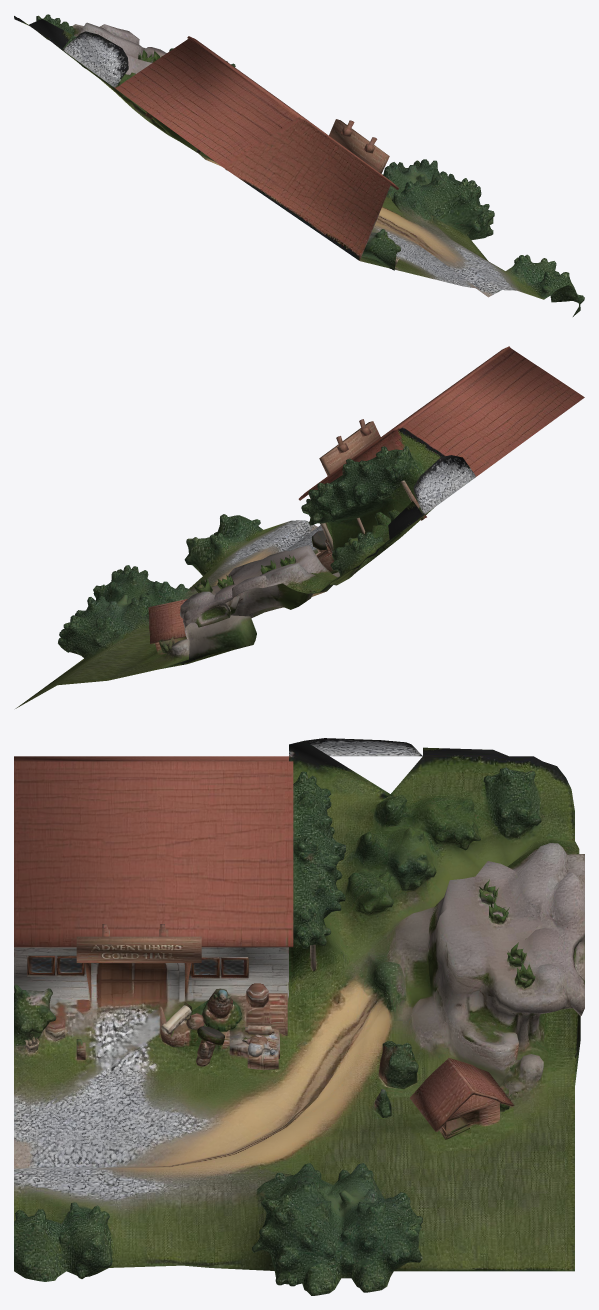
The model's file is guild-hall.glb.
3 views of the same model, one above another, from view 1: azimuth 30°, elevation 25°; view 2: azimuth 150°, elevation 25°; view 3: azimuth 270°, elevation 25° (orthographic). The views are drawn at different scales.
Visible parts, largest first — view 1: tripo_node_23d5d464-27a8-4d05-9d98-b19c19e9d2da; view 2: tripo_node_23d5d464-27a8-4d05-9d98-b19c19e9d2da; view 3: tripo_node_23d5d464-27a8-4d05-9d98-b19c19e9d2da.
Part boxes in pixels (x1,y1,x2,y2): tripo_node_23d5d464-27a8-4d05-9d98-b19c19e9d2da: (14, 14, 584, 316); tripo_node_23d5d464-27a8-4d05-9d98-b19c19e9d2da: (15, 346, 584, 708); tripo_node_23d5d464-27a8-4d05-9d98-b19c19e9d2da: (14, 738, 584, 1295).
Bounding box in the file's own units: 1.81 × 1.2 × 1.82.
Materials: 1 (1 with a texture image).
